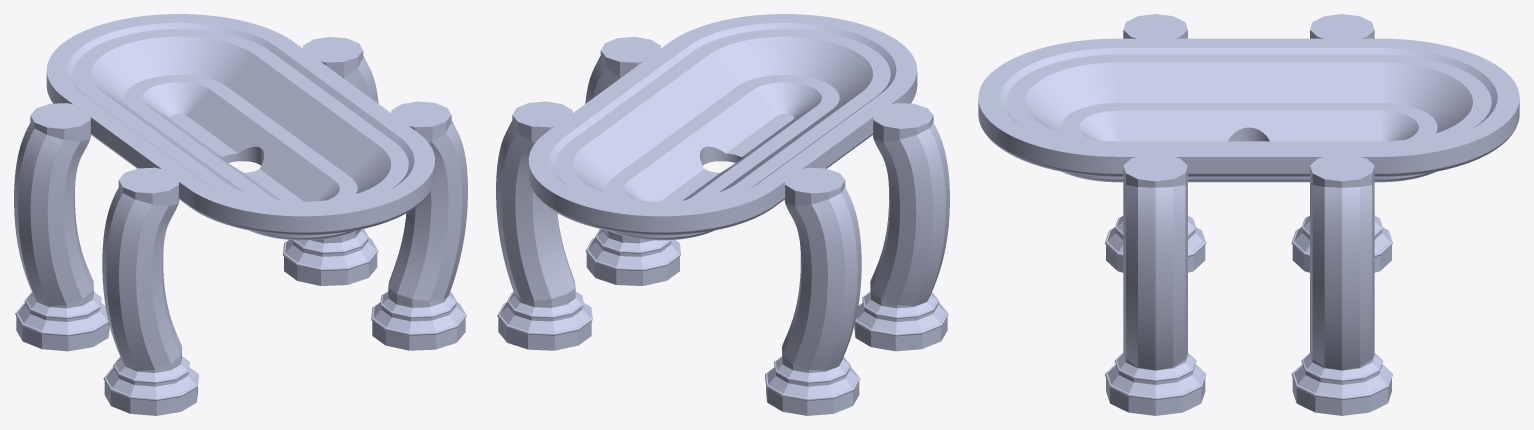
The model's file is voute_inversee.glb.
3 views of the same model, side by side, from view 1: azimuth 30°, elevation 25°; view 2: azimuth 150°, elevation 25°; view 3: azimuth 270°, elevation 25° (orthographic). The views are drawn at different scales.
Visible parts, largest first — view 1: export for website; view 2: export for website; view 3: export for website.
Part boxes in pixels (x1,y1,x2,y2): export for website: [14, 14, 467, 415]; export for website: [496, 14, 949, 415]; export for website: [978, 14, 1519, 415].
Size of the model in its own units: 4.67 by 2.7 by 5.8.
